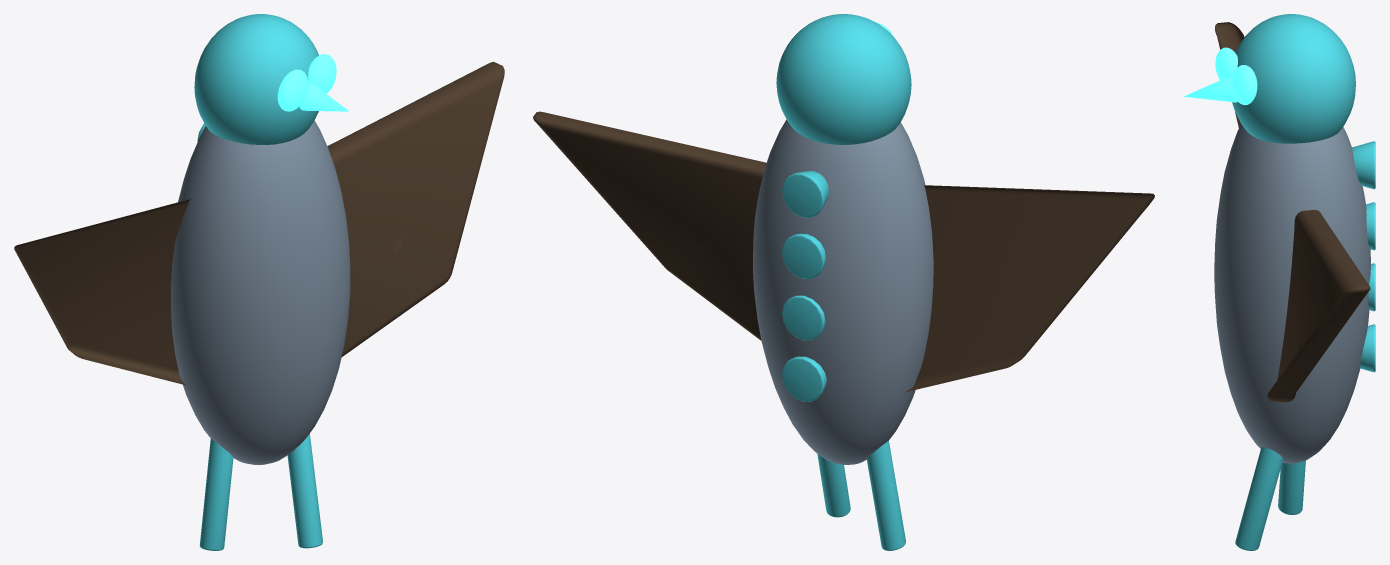
The model's file is avian_v6.glb.
The picture shows the model from 3 angles, left to right: view 1: azimuth 30°, elevation 25°; view 2: azimuth 150°, elevation 25°; view 3: azimuth 270°, elevation 25°; orthographic projection.
Parts seen in each view (by area): view 1: RAPTOR_BODY_PRIMARY, RAPTOR_WING_SECONDARY.001, RAPTOR_WING_SECONDARY, RAPTOR_HEAD_ACCENT, RAPTOR_LEG_ACCENT.001, RAPTOR_LEG_ACCENT, EYE_EMISSIVE, EYE_EMISSIVE.001, RAPTOR_BEAK_EMISSIVE; view 2: RAPTOR_BODY_PRIMARY, RAPTOR_WING_SECONDARY, RAPTOR_WING_SECONDARY.001, RAPTOR_HEAD_ACCENT, RAPTOR_LEG_ACCENT, DORSAL_SPINE_ACCENT.003, DORSAL_SPINE_ACCENT, DORSAL_SPINE_ACCENT.002, DORSAL_SPINE_ACCENT.001, RAPTOR_LEG_ACCENT.001; view 3: RAPTOR_BODY_PRIMARY, RAPTOR_HEAD_ACCENT, RAPTOR_WING_SECONDARY.001, RAPTOR_LEG_ACCENT.001, RAPTOR_LEG_ACCENT, DORSAL_SPINE_ACCENT.003, EYE_EMISSIVE.001, RAPTOR_BEAK_EMISSIVE, RAPTOR_WING_SECONDARY, EYE_EMISSIVE, DORSAL_SPINE_ACCENT, DORSAL_SPINE_ACCENT.002 (+1 smaller).
Boxes of the visible parts, <box> form: RAPTOR_BODY_PRIMARY: <box>171,120,350,464</box>; RAPTOR_WING_SECONDARY.001: <box>327,62,504,356</box>; RAPTOR_WING_SECONDARY: <box>14,199,190,385</box>; RAPTOR_HEAD_ACCENT: <box>194,14,318,144</box>; RAPTOR_LEG_ACCENT.001: <box>287,433,322,548</box>; RAPTOR_LEG_ACCENT: <box>199,438,233,550</box>; EYE_EMISSIVE: <box>277,69,308,111</box>; EYE_EMISSIVE.001: <box>308,54,336,93</box>; RAPTOR_BEAK_EMISSIVE: <box>299,82,348,111</box>; RAPTOR_BODY_PRIMARY: <box>752,119,933,464</box>; RAPTOR_WING_SECONDARY: <box>905,185,1154,392</box>; RAPTOR_WING_SECONDARY.001: <box>533,111,766,340</box>; RAPTOR_HEAD_ACCENT: <box>776,14,911,144</box>; RAPTOR_LEG_ACCENT: <box>866,441,905,550</box>; DORSAL_SPINE_ACCENT.003: <box>782,171,828,217</box>; DORSAL_SPINE_ACCENT: <box>782,356,826,401</box>; DORSAL_SPINE_ACCENT.002: <box>782,233,825,279</box>; DORSAL_SPINE_ACCENT.001: <box>782,295,825,340</box>; RAPTOR_LEG_ACCENT.001: <box>817,454,850,517</box>; RAPTOR_BODY_PRIMARY: <box>1214,124,1370,463</box>; RAPTOR_HEAD_ACCENT: <box>1232,14,1355,143</box>; RAPTOR_WING_SECONDARY.001: <box>1267,209,1370,402</box>; RAPTOR_LEG_ACCENT.001: <box>1235,447,1282,550</box>; RAPTOR_LEG_ACCENT: <box>1278,460,1305,514</box>; DORSAL_SPINE_ACCENT.003: <box>1352,141,1375,189</box>; EYE_EMISSIVE.001: <box>1232,65,1257,105</box>; RAPTOR_BEAK_EMISSIVE: <box>1184,76,1237,102</box>; RAPTOR_WING_SECONDARY: <box>1215,22,1244,127</box>; EYE_EMISSIVE: <box>1215,47,1237,80</box>; DORSAL_SPINE_ACCENT: <box>1360,324,1375,372</box>; DORSAL_SPINE_ACCENT.002: <box>1366,202,1375,250</box>.
Bounding box in the file's own units: 2.82 × 2.53 × 0.8579.
